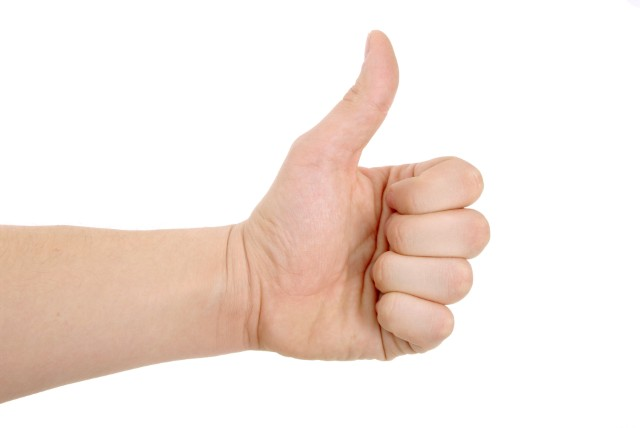thumbsup: (324, 28, 493, 359)
